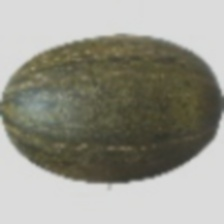honeydew: (28, 47, 224, 207)
